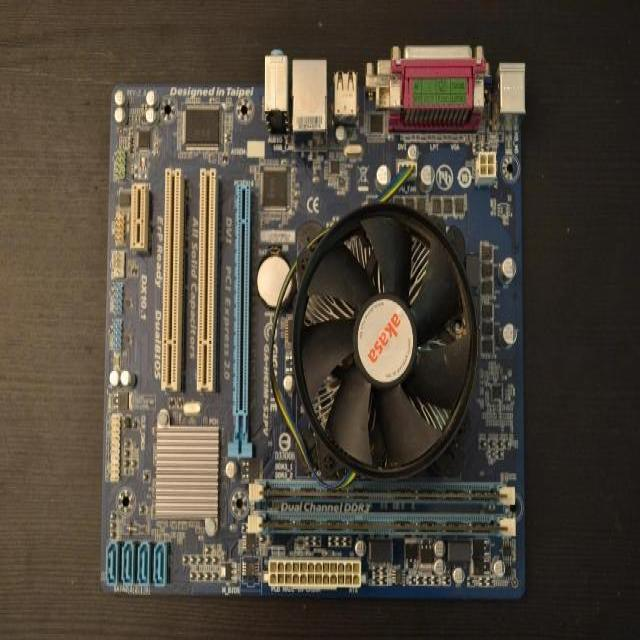CPU_Fan: (290, 201, 481, 480)
RAM: (258, 522, 509, 534), (259, 490, 509, 500)
